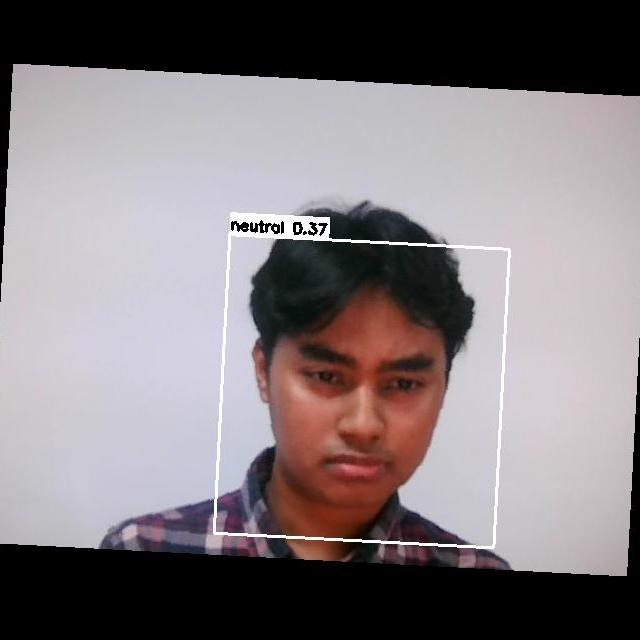Angry: (292, 322, 452, 486)
